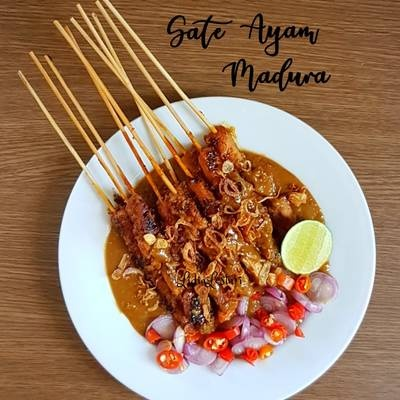sate_madura: (18, 6, 350, 349)
